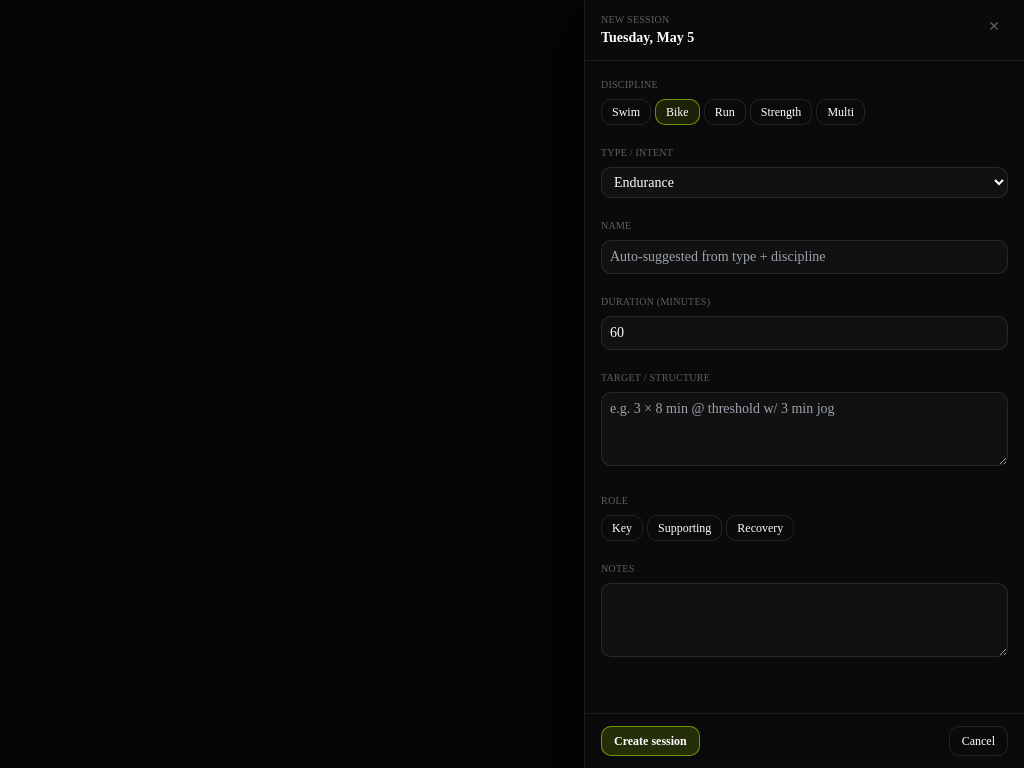
Test case: SessionDrawer › create mode › surfaces a validation error on invalid duration
Replace the text in the number field labelled "Duration (minutes)" with "0": (804, 333) [601, 316, 1008, 350]
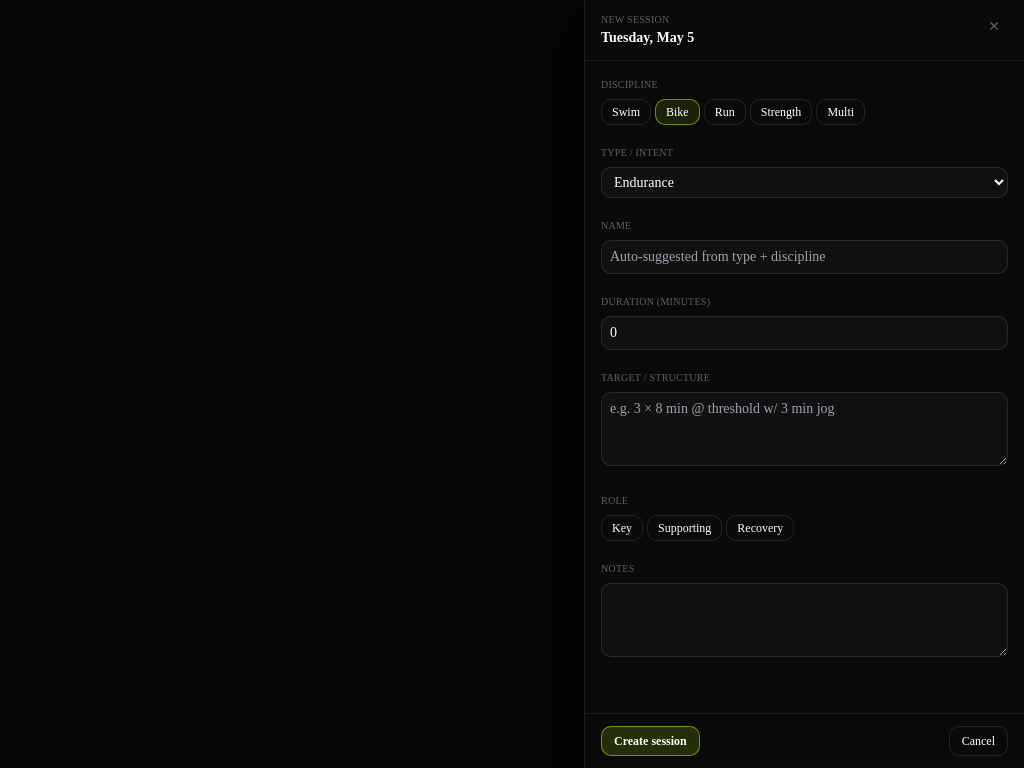
Click the button "Create session": (650, 741) [601, 726, 700, 756]
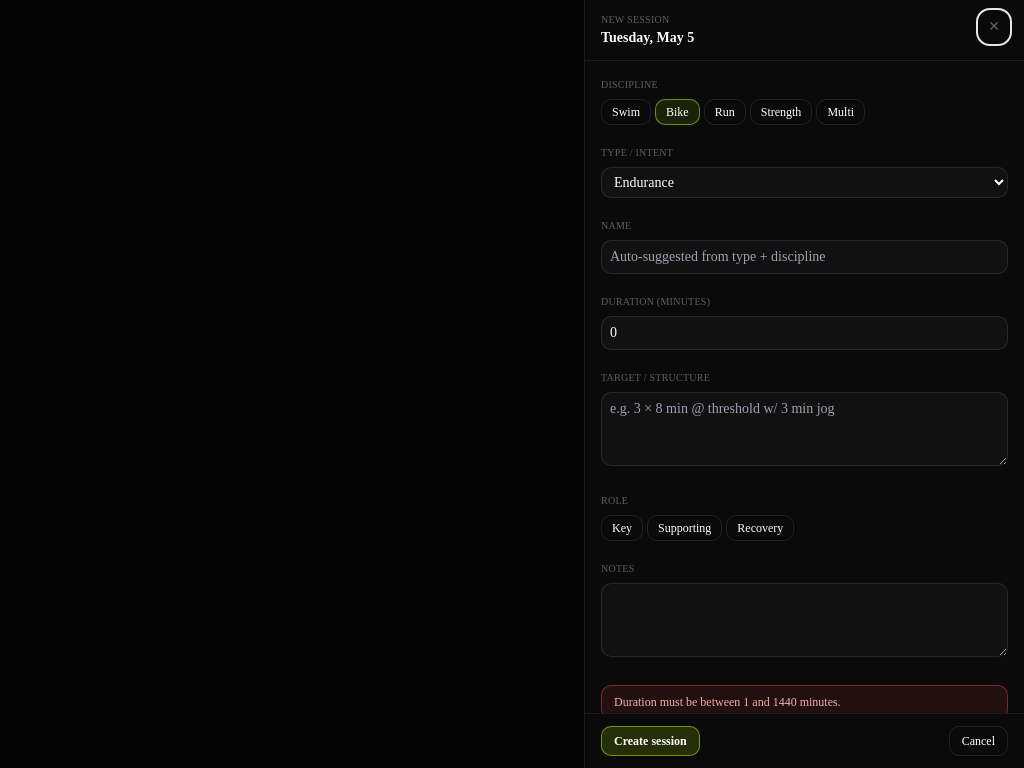
Expected: the message shows "Duration must be between", [614, 695, 841, 709]
